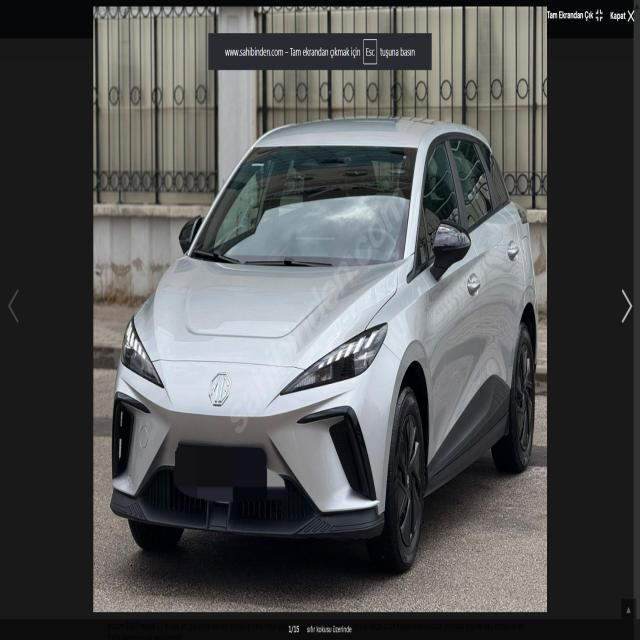mg: (202, 357, 238, 412)
